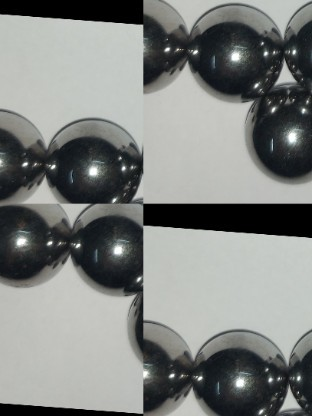ironball: (187, 2, 279, 106), (189, 325, 282, 414), (44, 116, 139, 199), (64, 200, 142, 293), (245, 80, 310, 178), (0, 101, 57, 203), (0, 204, 69, 288), (145, 0, 192, 95), (142, 318, 189, 412), (281, 0, 310, 91), (285, 316, 310, 414)
